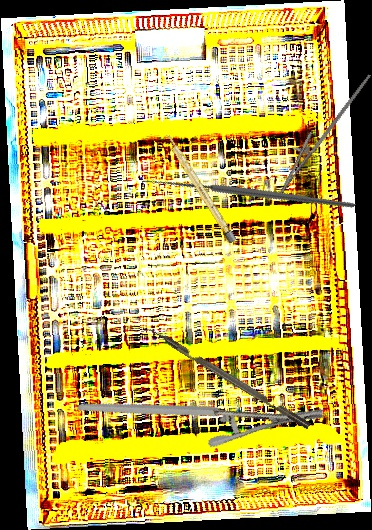Chopper: (138, 321, 311, 438)
Hook Surgical: (136, 93, 356, 301)
Needle Holder: (75, 325, 329, 494), (269, 59, 372, 204)
Scalpel Handle: (163, 132, 237, 244)
